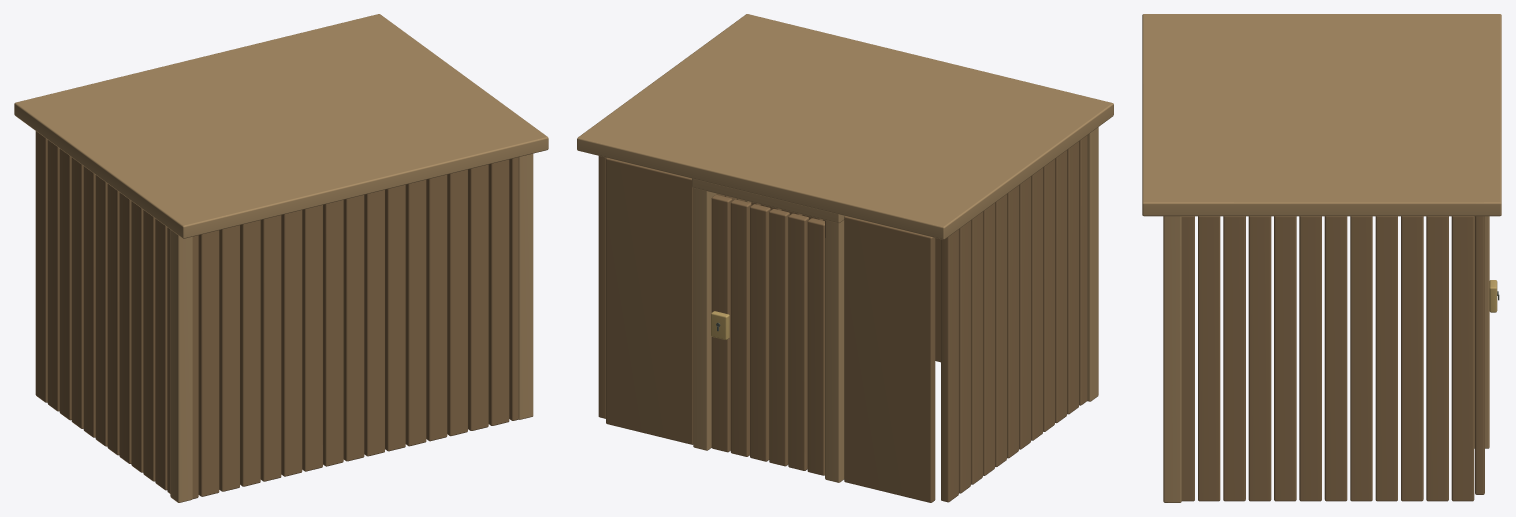
The model's file is Warehouse.fbx.
3 renders of one model, left to right at view 1: azimuth 30°, elevation 25°; view 2: azimuth 150°, elevation 25°; view 3: azimuth 270°, elevation 25°, orthographic. The views are drawn at different scales.
Visible parts, largest first — view 1: Roof, CornerPost, WallBack.001, WallBack.005, WallBack.015, WallBack.012, WallBack.004, WallBack.008, WallBack.011, WallBack.003, WallBack.007, WallBack.009 (+20 smaller); view 2: Roof, FrontPanel, FrontPanel.001, DoorFrame, DoorLeaf.003, DoorLeaf.004, DoorLeaf.001, DoorLeaf.002, DoorFrame.001, WallSide.011, DoorLeaf.005, DoorLeaf (+15 smaller); view 3: Roof, WallSide.015, WallSide.018, WallSide.023, WallSide.014, WallSide.016, WallSide.017, WallSide.019, WallSide.022, WallSide.021, WallSide.013, WallSide.020 (+4 smaller).
Boxes of the visible parts, <box> form: Roof: <box>14,14,548,238</box>; CornerPost: <box>170,229,192,502</box>; WallBack.001: <box>198,230,219,496</box>; WallBack.005: <box>281,210,302,476</box>; WallBack.015: <box>488,159,509,425</box>; WallBack.012: <box>426,174,447,441</box>; WallBack.004: <box>260,215,281,481</box>; WallBack.008: <box>343,195,364,461</box>; WallBack.011: <box>405,180,426,446</box>; WallBack.003: <box>240,220,260,486</box>; WallBack.007: <box>323,200,343,466</box>; WallBack.009: <box>364,190,384,456</box>; Roof: <box>577,14,1113,239</box>; FrontPanel: <box>844,216,935,502</box>; FrontPanel.001: <box>606,158,693,444</box>; DoorFrame: <box>825,220,844,482</box>; DoorLeaf.003: <box>750,204,770,461</box>; DoorLeaf.004: <box>730,199,751,456</box>; DoorLeaf.001: <box>788,213,808,470</box>; DoorLeaf.002: <box>769,209,789,466</box>; DoorFrame.001: <box>693,188,716,450</box>; WallSide.011: <box>941,229,958,502</box>; DoorLeaf.005: <box>711,194,732,452</box>; DoorLeaf: <box>807,218,824,475</box>; Roof: <box>1142,14,1501,216</box>; WallSide.015: <box>1248,216,1271,501</box>; WallSide.018: <box>1324,216,1347,501</box>; WallSide.023: <box>1451,216,1474,501</box>; WallSide.014: <box>1223,216,1245,501</box>; WallSide.016: <box>1274,216,1296,501</box>; WallSide.017: <box>1299,216,1321,501</box>; WallSide.019: <box>1350,216,1372,501</box>; WallSide.022: <box>1426,216,1448,501</box>; WallSide.021: <box>1401,216,1423,501</box>; WallSide.013: <box>1198,216,1220,501</box>; WallSide.020: <box>1375,216,1397,501</box>.
Bounding box in the file's own units: 318 × 238 × 255.
